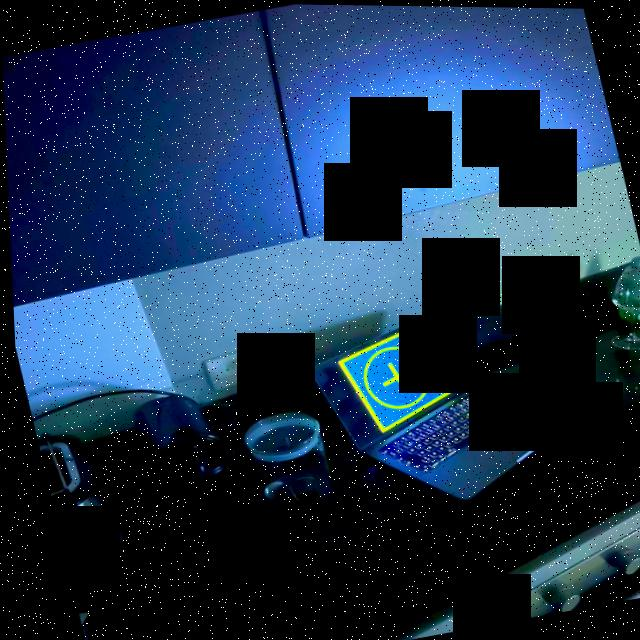Marker: (316, 323, 459, 435)
